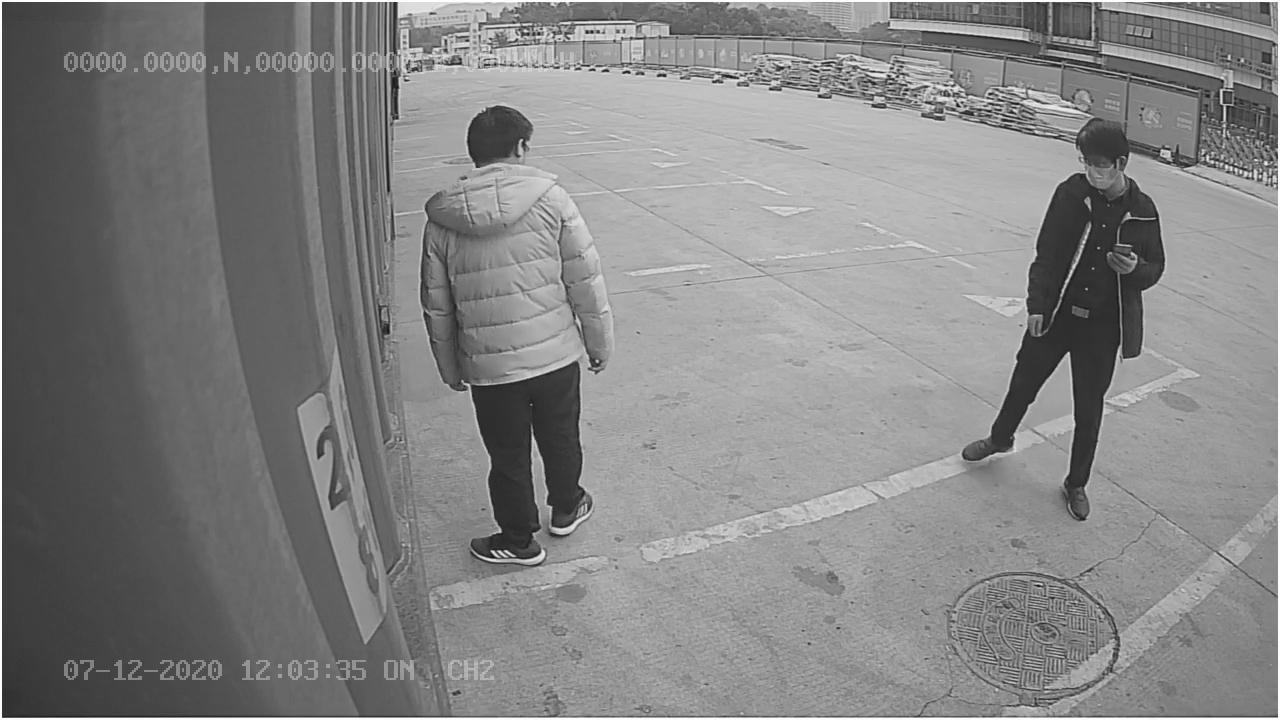person: (419, 99, 624, 563), (960, 110, 1169, 518)
